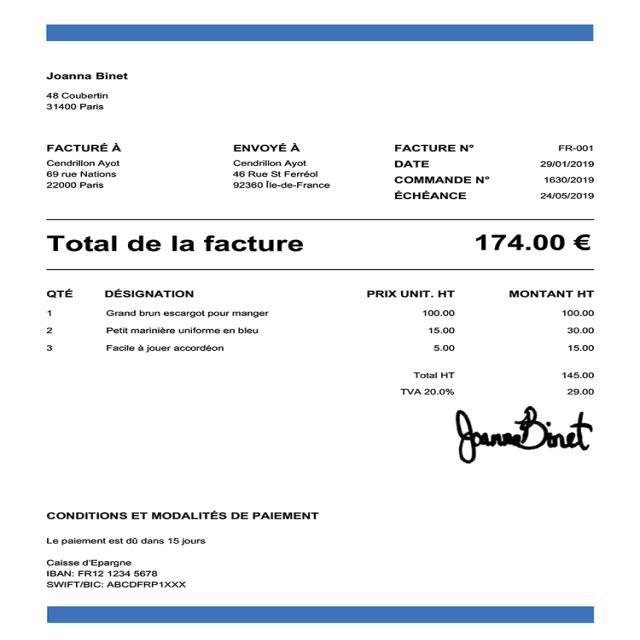customer_address: (41, 169, 120, 195)
customer_name: (44, 156, 125, 170)
due_date: (535, 187, 600, 204)
invoice_date: (535, 155, 598, 170)
invoice_number: (552, 138, 600, 154)
invoice_subtotal: (557, 367, 600, 382)
invoice_total: (472, 227, 600, 259)
item_description: (97, 302, 278, 364)
item_quantity: (37, 303, 65, 363)
item_total_price: (555, 305, 602, 358)
item_unit_price: (417, 302, 459, 362)
supplier_address: (42, 86, 113, 116)
supplier_name: (42, 68, 130, 82)
tax_amount: (561, 385, 599, 400)
tax_rate: (422, 385, 457, 400)
